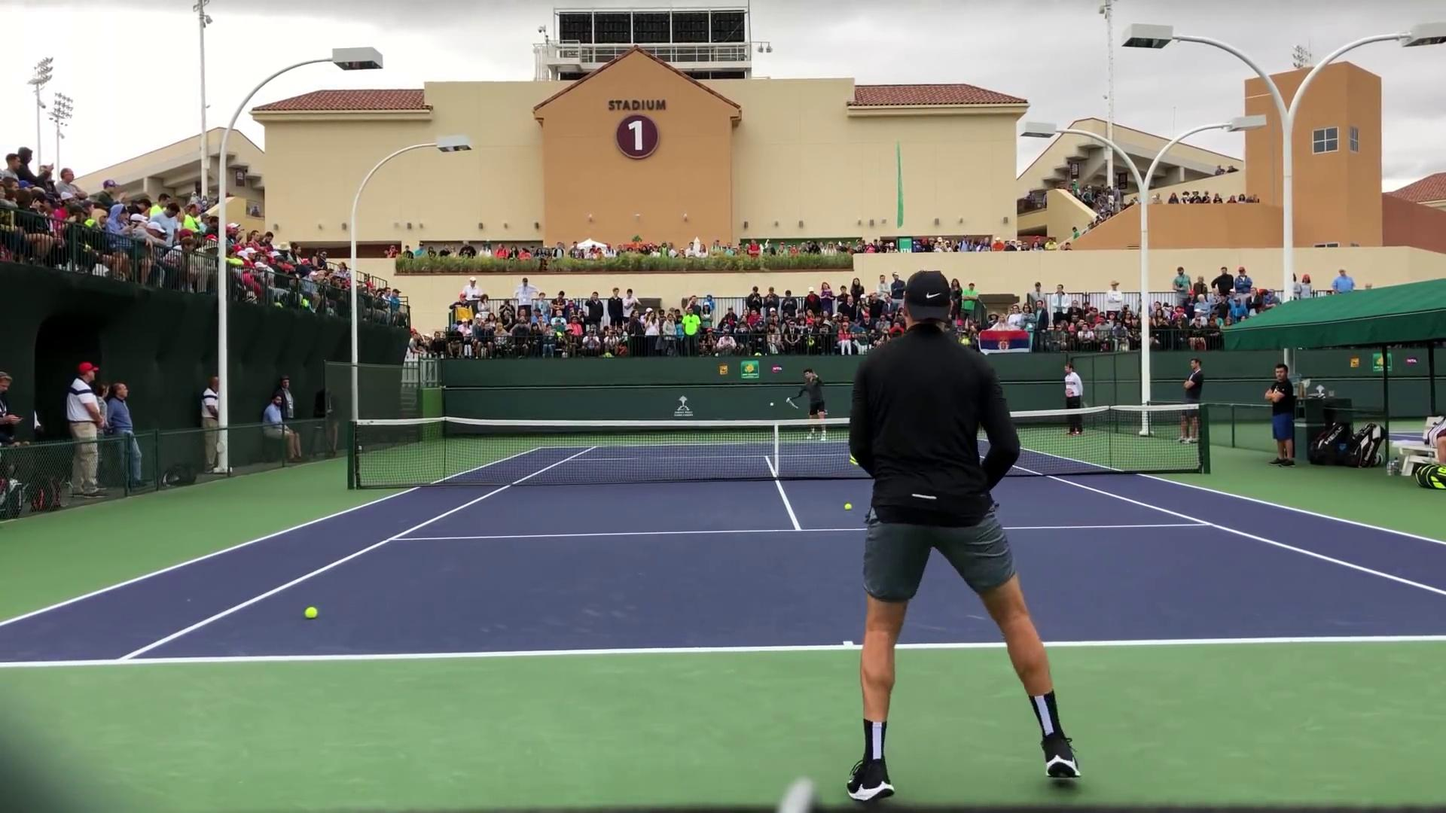ball: (303, 606, 317, 619), (845, 503, 852, 510), (769, 402, 774, 407)
